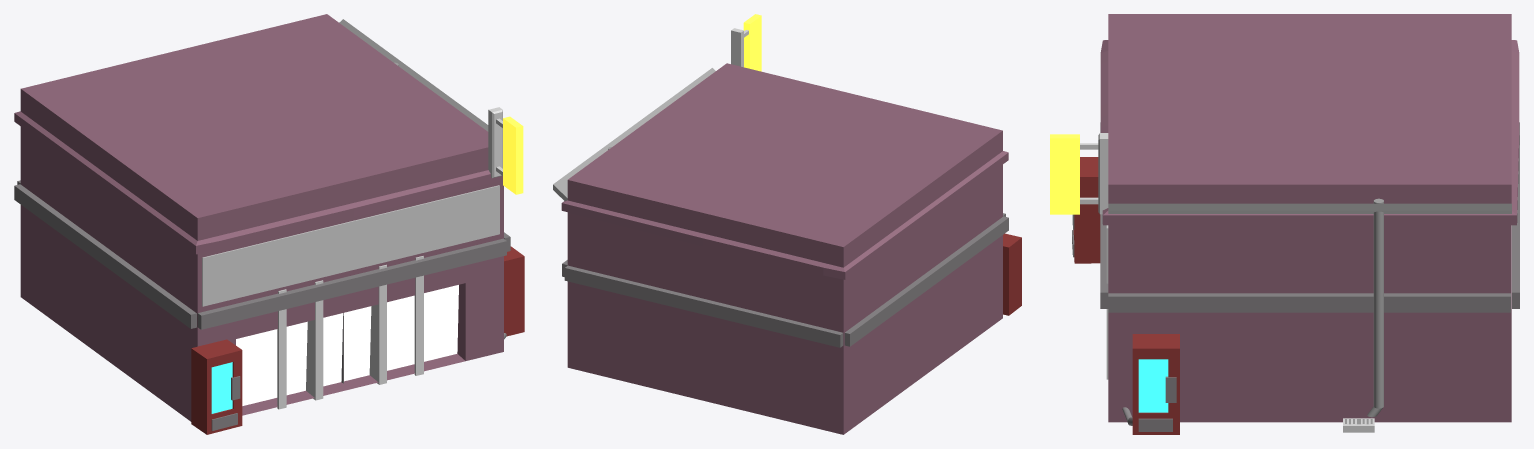
3 renders of one model, left to right at view 1: azimuth 30°, elevation 25°; view 2: azimuth 150°, elevation 25°; view 3: azimuth 270°, elevation 25°, orthographic. The views are drawn at different scales.
Visible parts, largest first — view 1: Cube, Cube.005, Cube.004, Cube.006, Cube.016, Cube.011, Cube.017, Cube.024, Cube.015, Cube.023, Cube.002, Cube.021 (+2 smaller); view 2: Cube, Cube.009, Cube.011, Cube.016, Cube.002, Cube.015, Cube.012; view 3: Cube, Cube.010, Cube.017, Cube.002, Cube.015, Cube.016, Cylinder.001, Cube.009, Cube.012, Cube.006, Cube.001.
Boxes of the visible parts, x1,y1,x2,y2 form: Cube: (14,14,503,421); Cube.005: (202,185,499,306); Cube.004: (236,285,458,405); Cube.006: (197,238,506,329); Cube.016: (191,339,242,434); Cube.011: (14,184,196,328); Cube.017: (504,246,524,336); Cube.024: (306,280,323,400); Cube.015: (503,116,523,194); Cube.023: (369,264,386,384); Cube.002: (339,19,488,131); Cube.021: (277,289,286,409); Cube: (561,63,1008,434); Cube.009: (564,265,843,347); Cube.011: (844,216,1008,346); Cube.016: (1003,233,1021,315); Cube.002: (553,68,715,200); Cube.015: (743,14,761,71); Cube.012: (731,28,743,67); Cube: (1100,14,1519,422); Cube.010: (1108,293,1510,312); Cube.017: (1132,334,1179,434); Cube.002: (1108,203,1511,213); Cube.015: (1050,134,1079,214); Cube.016: (1072,157,1100,263); Cylinder.001: (1367,198,1383,417); Cube.009: (1512,122,1519,308); Cube.012: (1098,133,1108,214); Cube.006: (1100,122,1108,308); Cube.001: (1343,418,1374,432).
Size of what is drawn, in the model's own units: 14.06 by 9.65 by 14.5.
